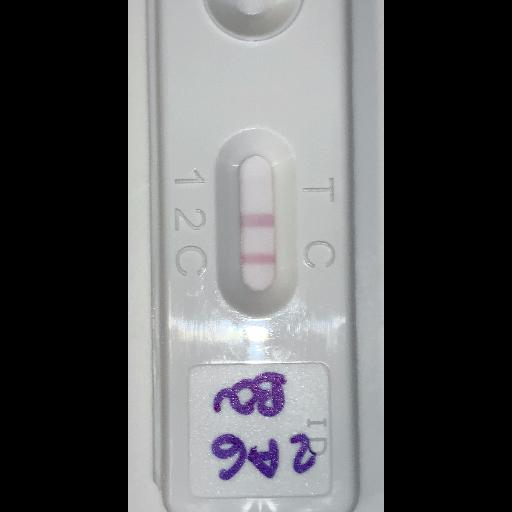Pos: (144, 0, 362, 511)
